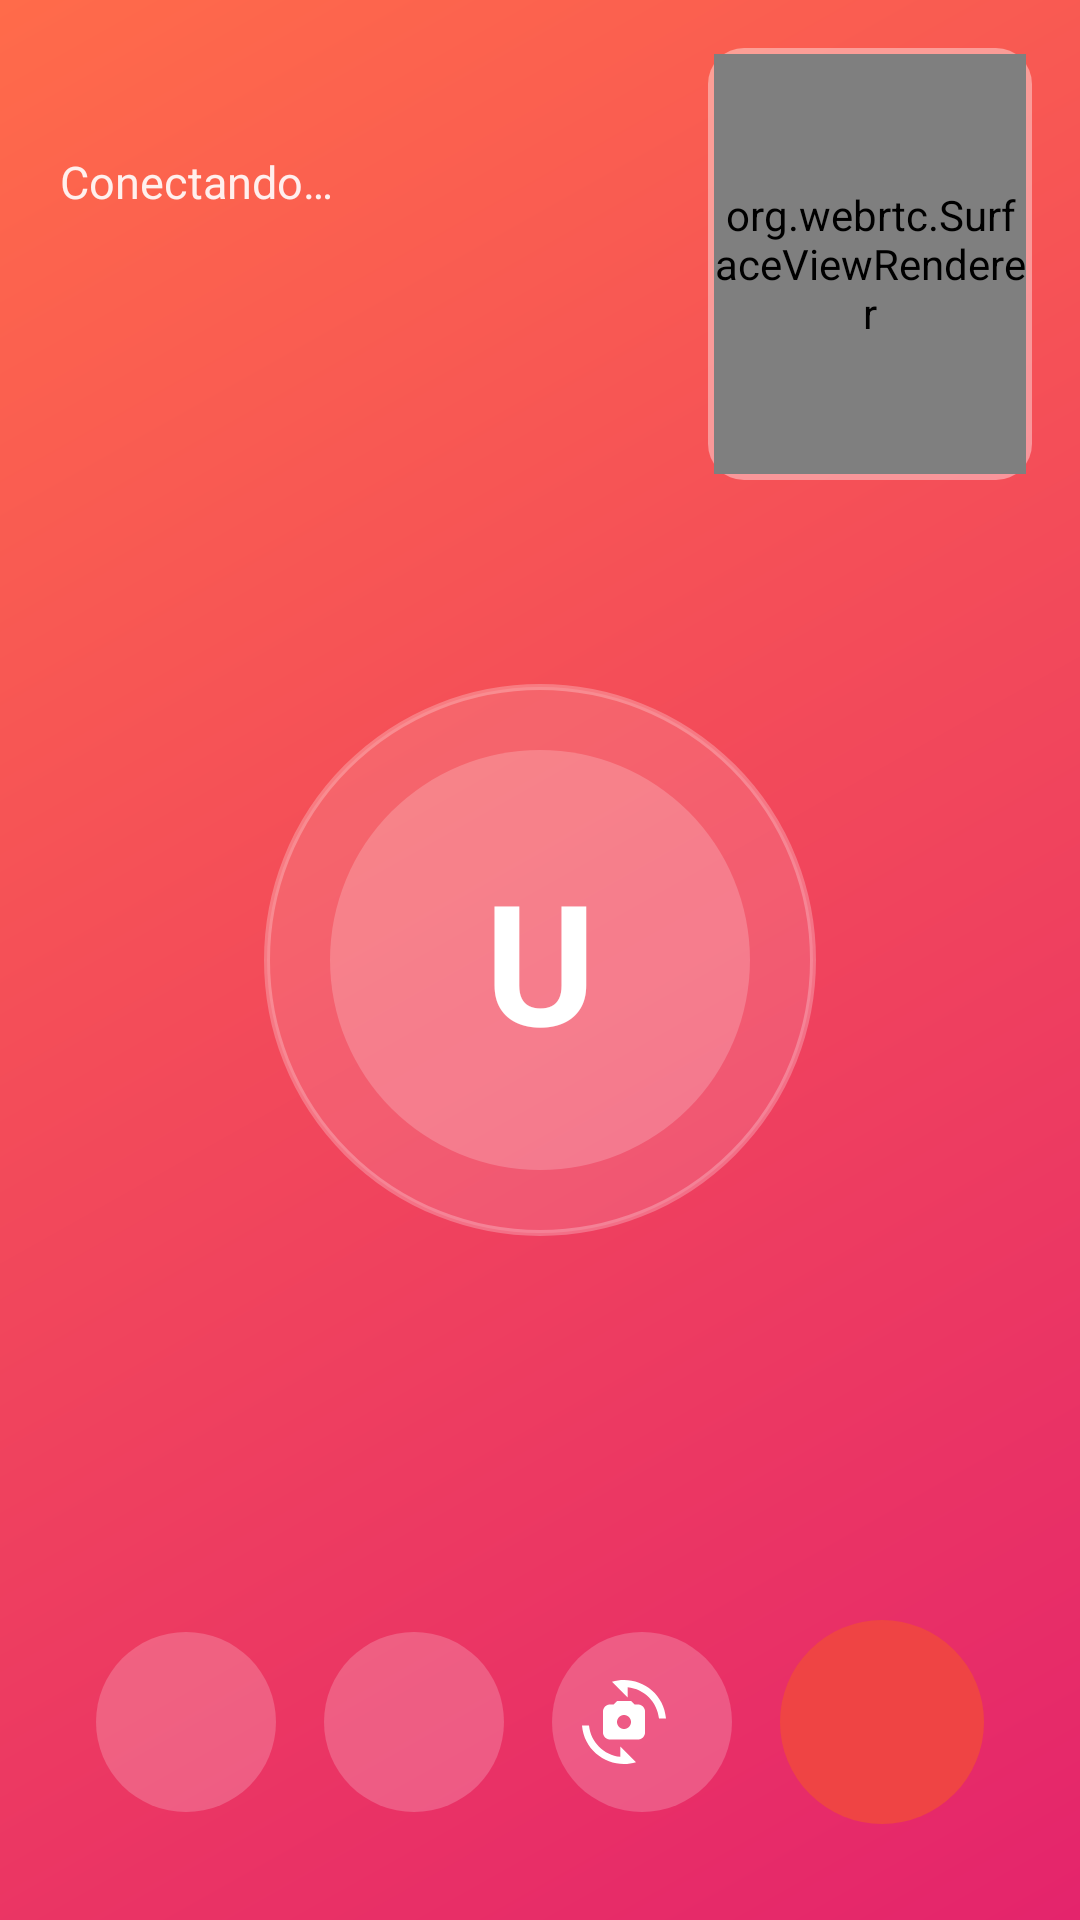

Point at icon controls on the screen. Image size 1080px×1920px, points as point (x, y).
Cambiar cámara: point (642, 1722)
